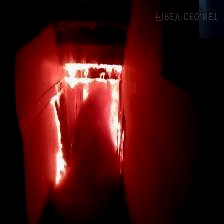fire: (49, 60, 135, 187)
